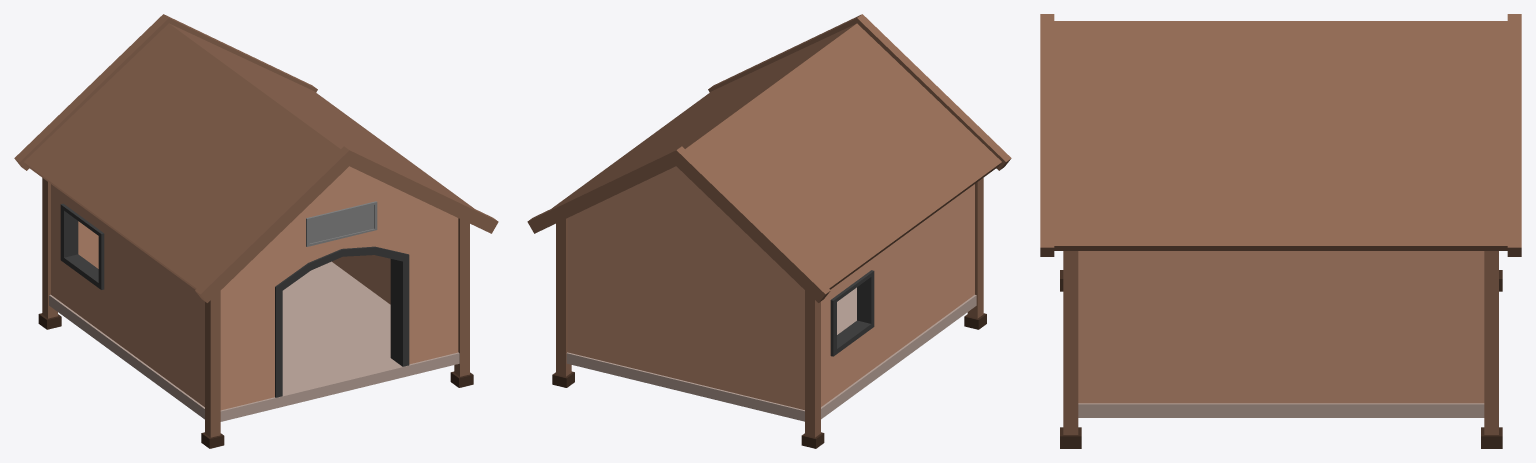
Rendered from DogHouse.fbx.
3 renders of one model, left to right at view 1: azimuth 30°, elevation 25°; view 2: azimuth 150°, elevation 25°; view 3: azimuth 270°, elevation 25°, orthographic. The views are drawn at different scales.
Parts seen in each view (by area): view 1: Dog_House; view 2: Dog_House; view 3: Dog_House.
Part boxes in pixels (bbox=[...]): Dog_House: bbox=[14, 14, 498, 448]; Dog_House: bbox=[527, 14, 1011, 448]; Dog_House: bbox=[1040, 14, 1521, 448].
Bounding box in the file's own units: 3.33 × 2.9 × 3.6.
Materials: 1 (1 with a texture image).
